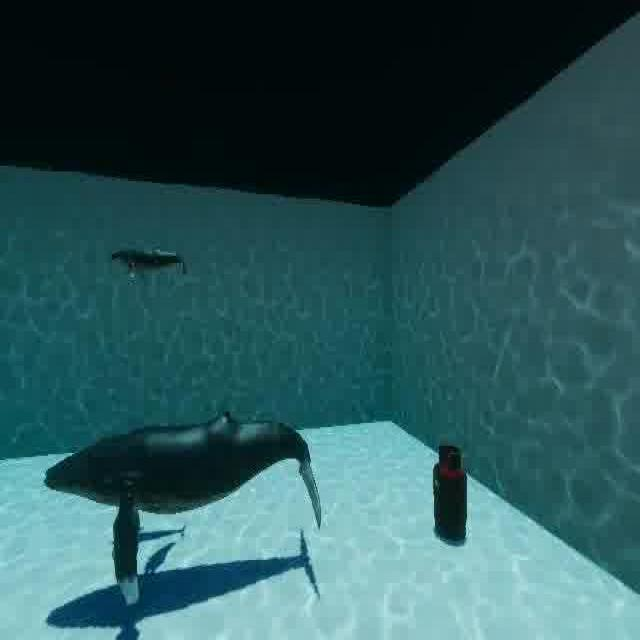Cylinder: (426, 426, 480, 556)
Whale: (32, 393, 353, 619), (102, 234, 197, 286)
